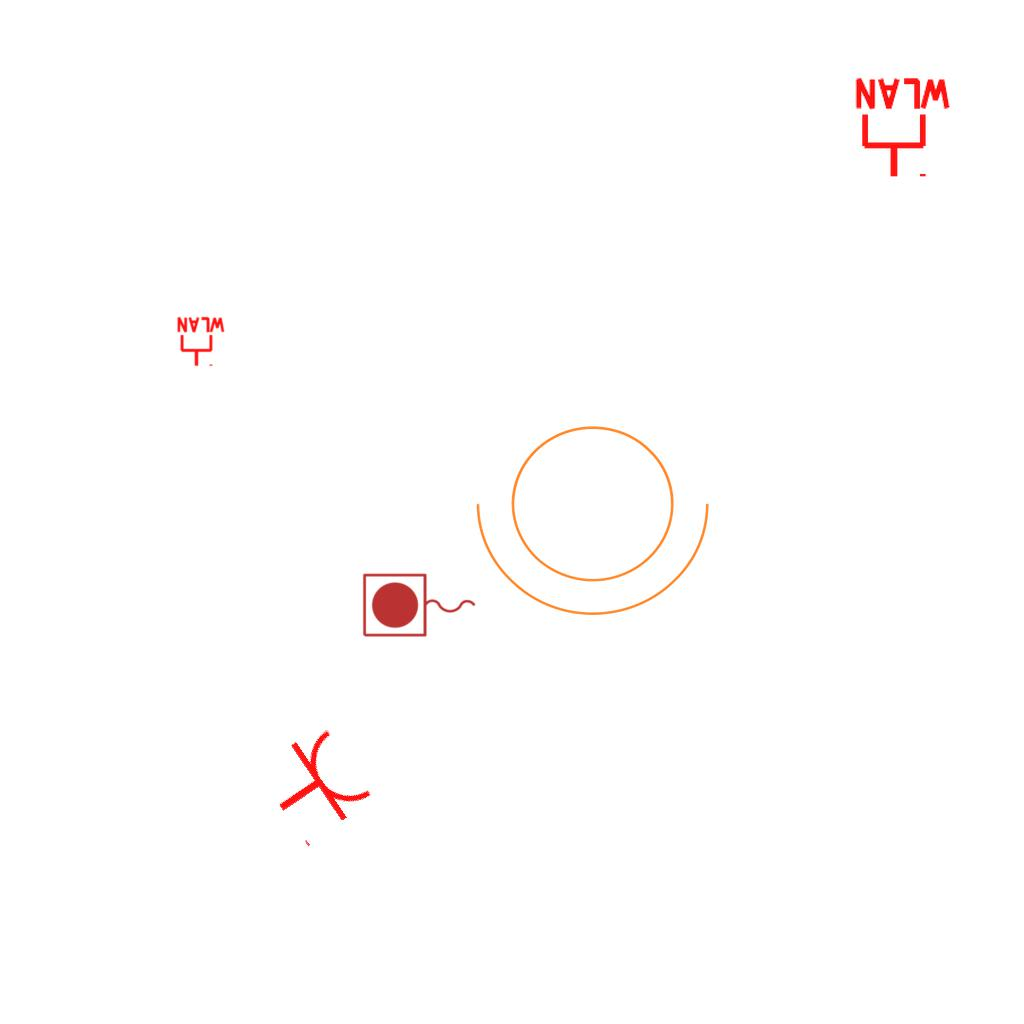Scheinwerfer_fuer_Alarmbeleuchtung: (467, 401, 731, 626)
Schukosteckdose_einfach: (252, 720, 381, 852)
WLAN: (851, 76, 955, 181), (175, 316, 227, 368)
Zugtaster: (359, 570, 481, 642)
